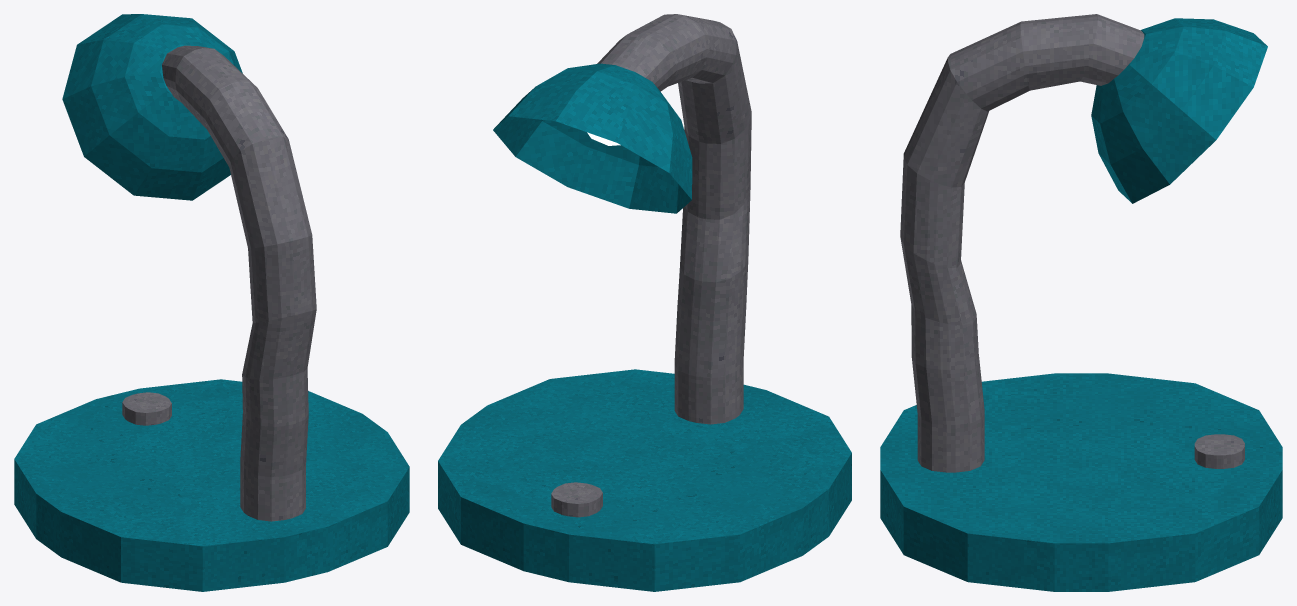
The model's file is desk_light.glb.
The picture shows the model from 3 angles, left to right: view 1: azimuth 30°, elevation 25°; view 2: azimuth 150°, elevation 25°; view 3: azimuth 270°, elevation 25°; orthographic projection. The views are drawn at different scales.
Visible parts, largest first — view 1: Lamp; view 2: Lamp; view 3: Lamp.
Boxes of the visible parts, x1,y1,x2,y2 form: Lamp: (14, 14, 409, 591); Lamp: (438, 14, 851, 591); Lamp: (880, 14, 1282, 591).
Bounding box in the file's own units: 0.225 × 0.2997 × 0.225.
Materials: 3 (2 with a texture image).
